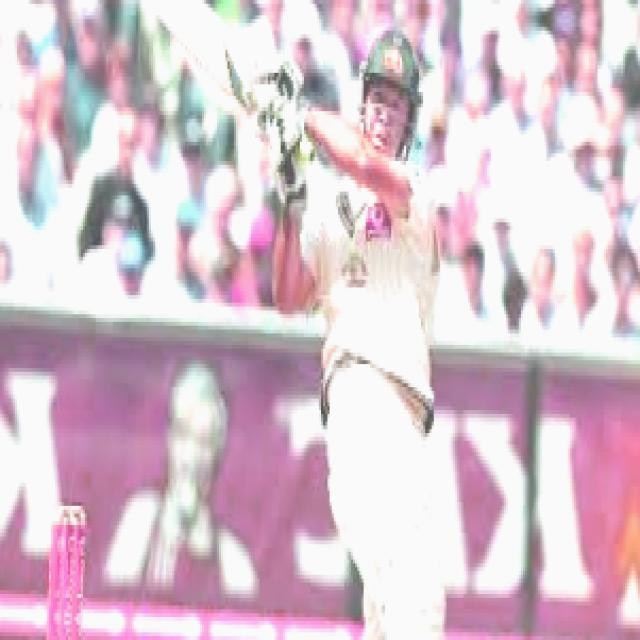toe: (156, 0, 202, 24)
